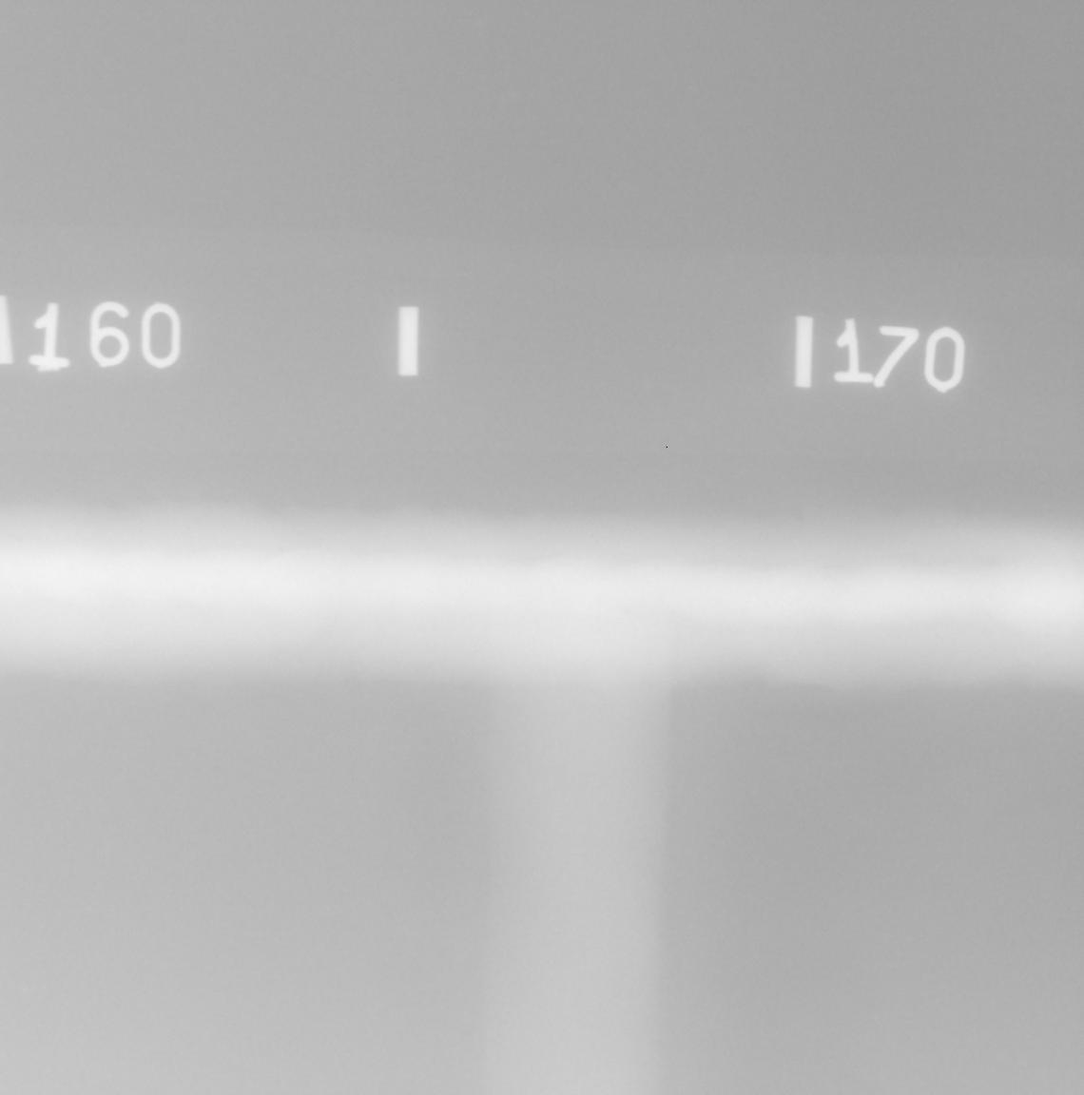Pore/Porosity: (672, 663, 680, 672), (764, 603, 770, 609), (625, 608, 629, 614)
